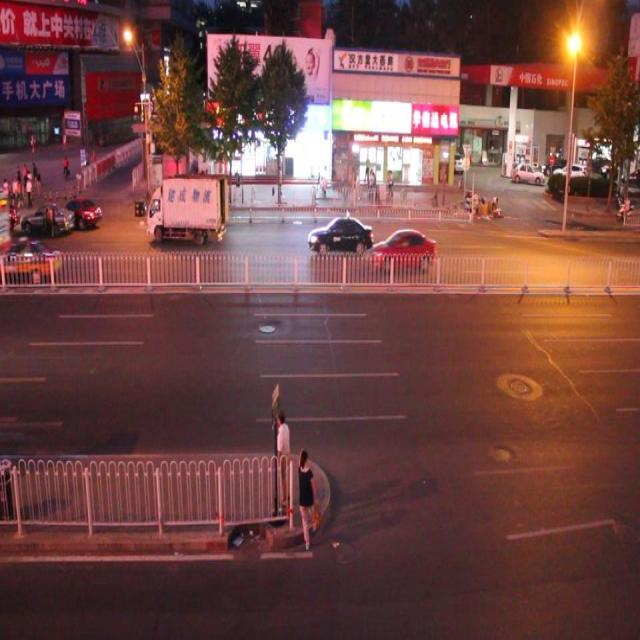bus: (145, 175, 228, 242)
car: (370, 224, 438, 274), (1, 238, 64, 285), (308, 213, 373, 258), (17, 197, 72, 238), (64, 192, 103, 230)
